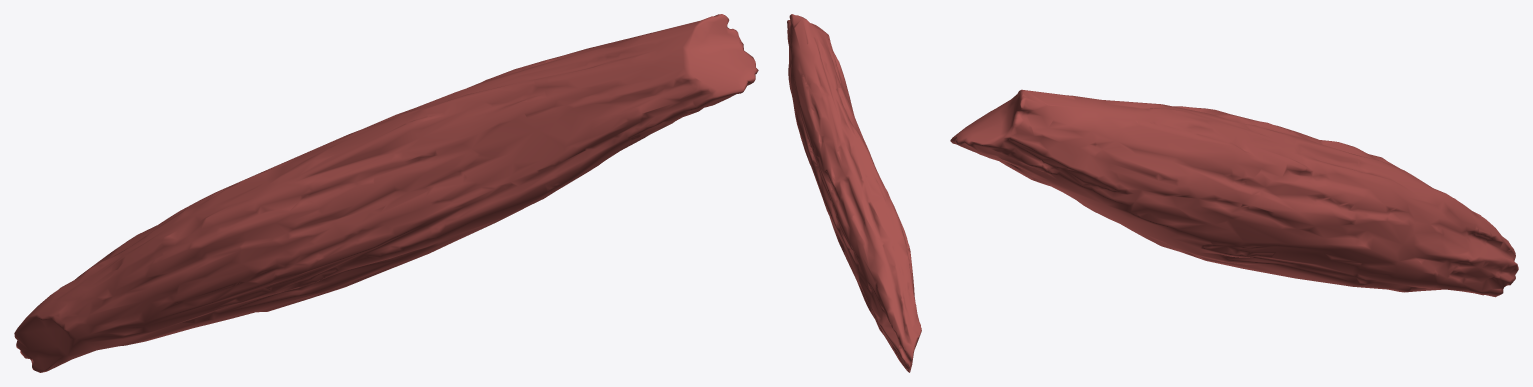
Rendered from FMA32537.glb.
3 views of the same model, side by side, from view 1: azimuth 30°, elevation 25°; view 2: azimuth 150°, elevation 25°; view 3: azimuth 270°, elevation 25° (orthographic). The views are drawn at different scales.
Visible parts, largest first — view 1: FMA32537; view 2: FMA32537; view 3: FMA32537.
Boxes of the visible parts, x1=… form: FMA32537: x1=14, y1=14, x2=758, y2=372; FMA32537: x1=787, y1=14, x2=921, y2=372; FMA32537: x1=950, y1=89, x2=1518, y2=297.
Size of the model in its own units: 0.0374 by 0.0304 by 0.0365.
